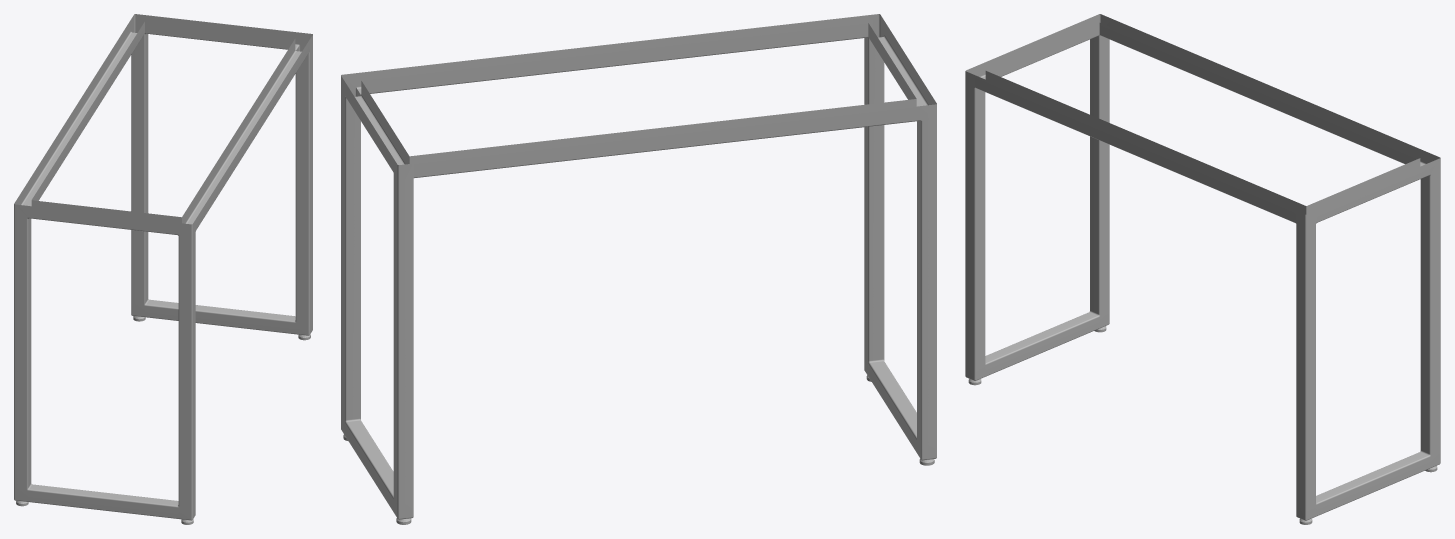
The model's file is diningtable_0103_leg_rectagle.glb.
The picture shows the model from 3 angles, left to right: view 1: azimuth 30°, elevation 25°; view 2: azimuth 150°, elevation 25°; view 3: azimuth 270°, elevation 25°; orthographic projection. The views are drawn at different scales.
Parts seen in each view (by area): view 1: diningtable_0103_leg_rectagle; view 2: diningtable_0103_leg_rectagle; view 3: diningtable_0103_leg_rectagle.
Part boxes in pixels (x1,y1,x2,y2): diningtable_0103_leg_rectagle: (14,14,312,524); diningtable_0103_leg_rectagle: (341,14,936,524); diningtable_0103_leg_rectagle: (965,14,1440,524).
Bounding box in the file's own units: 1.31 × 0.9468 × 1.31.
Materials: 1 (1 with a texture image).
